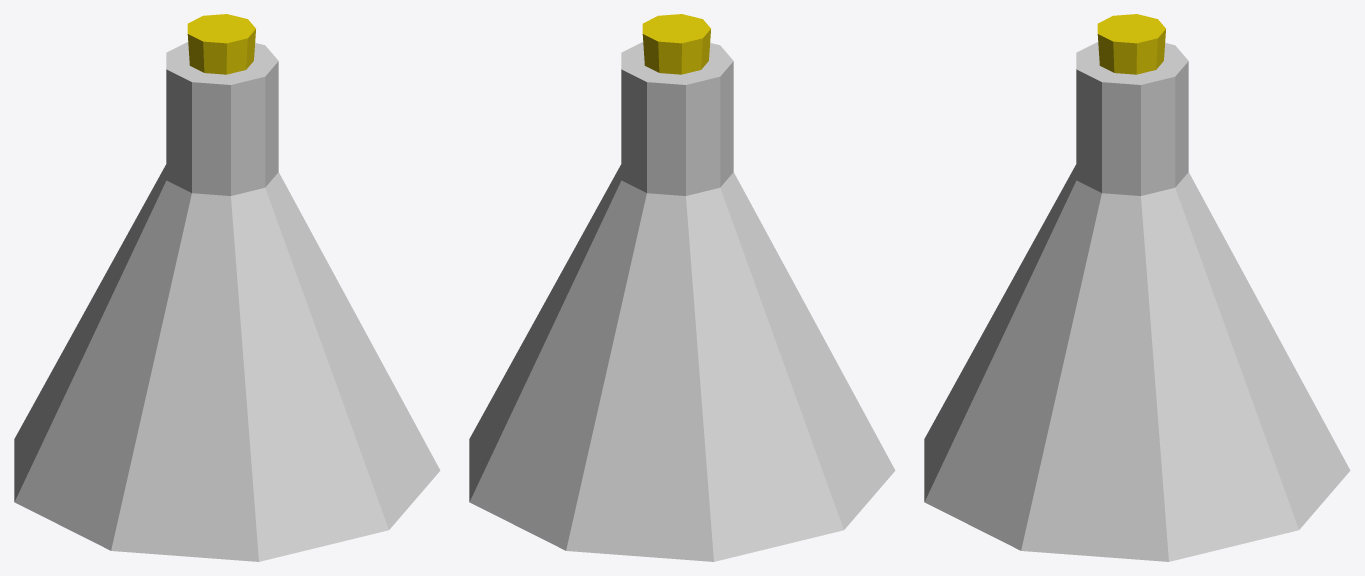
Rendered from Potion (Model).fbx.
The picture shows the model from 3 angles, left to right: view 1: azimuth 30°, elevation 25°; view 2: azimuth 150°, elevation 25°; view 3: azimuth 270°, elevation 25°; orthographic projection.
Parts seen in each view (by area): view 1: Potion; view 2: Potion; view 3: Potion.
Boxes of the visible parts, left/top/right/bottom form: Potion: left=14, top=14, right=440, bottom=561; Potion: left=469, top=14, right=895, bottom=561; Potion: left=924, top=14, right=1350, bottom=561.
Bounding box in the file's own units: 98.48 × 96.98 × 111.
